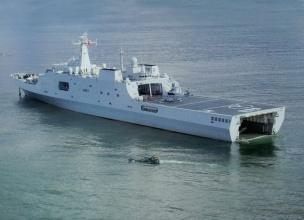warship: (8, 29, 290, 141)
